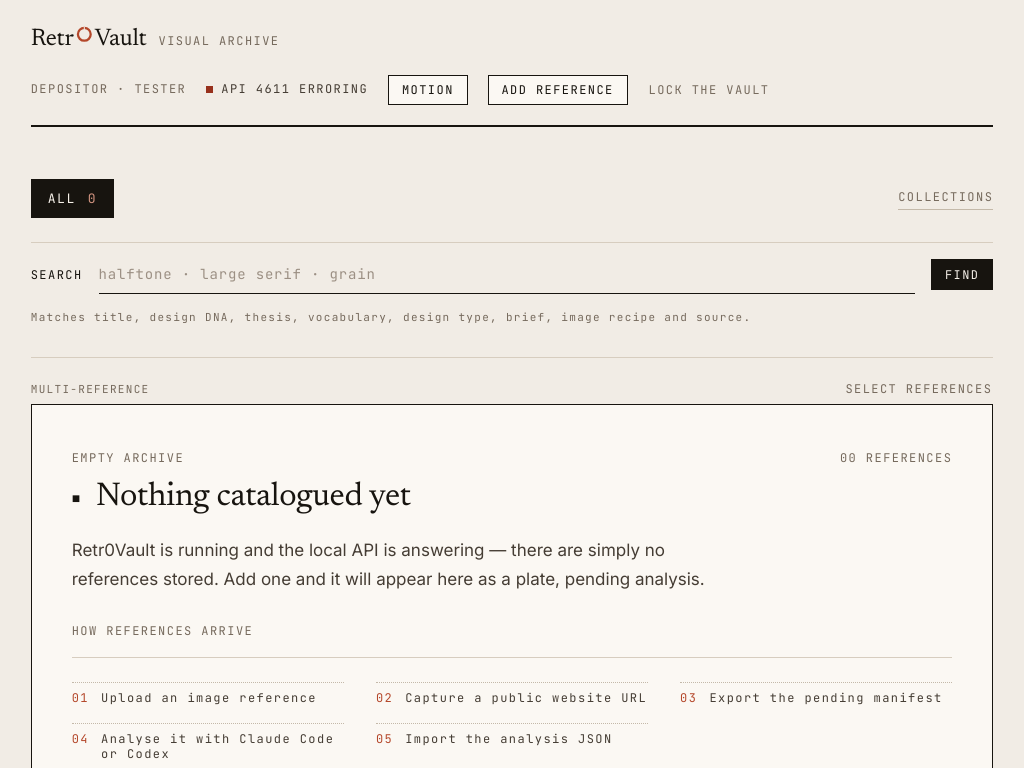
the strong room › locks the vault behind the depositor, back at the strong room
Click the button "Lock the vault": [709, 90] box [648,75,770,105]
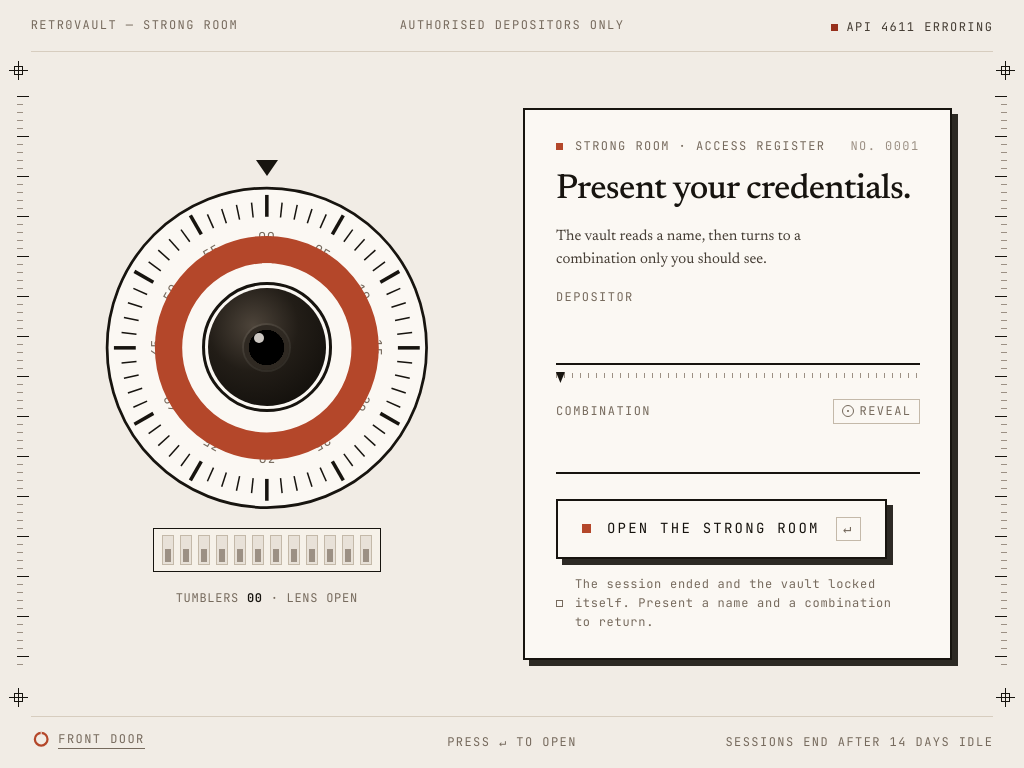
expect the heading "Present your credentials." is shown: met, box [556,172,920,208]
